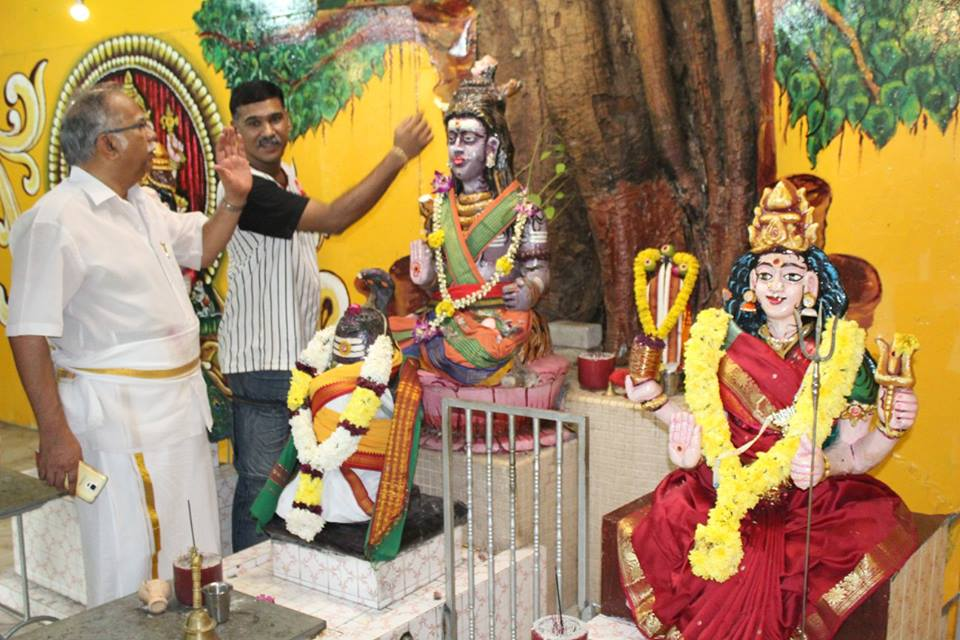Hindu Temple: (315, 74, 563, 532)
